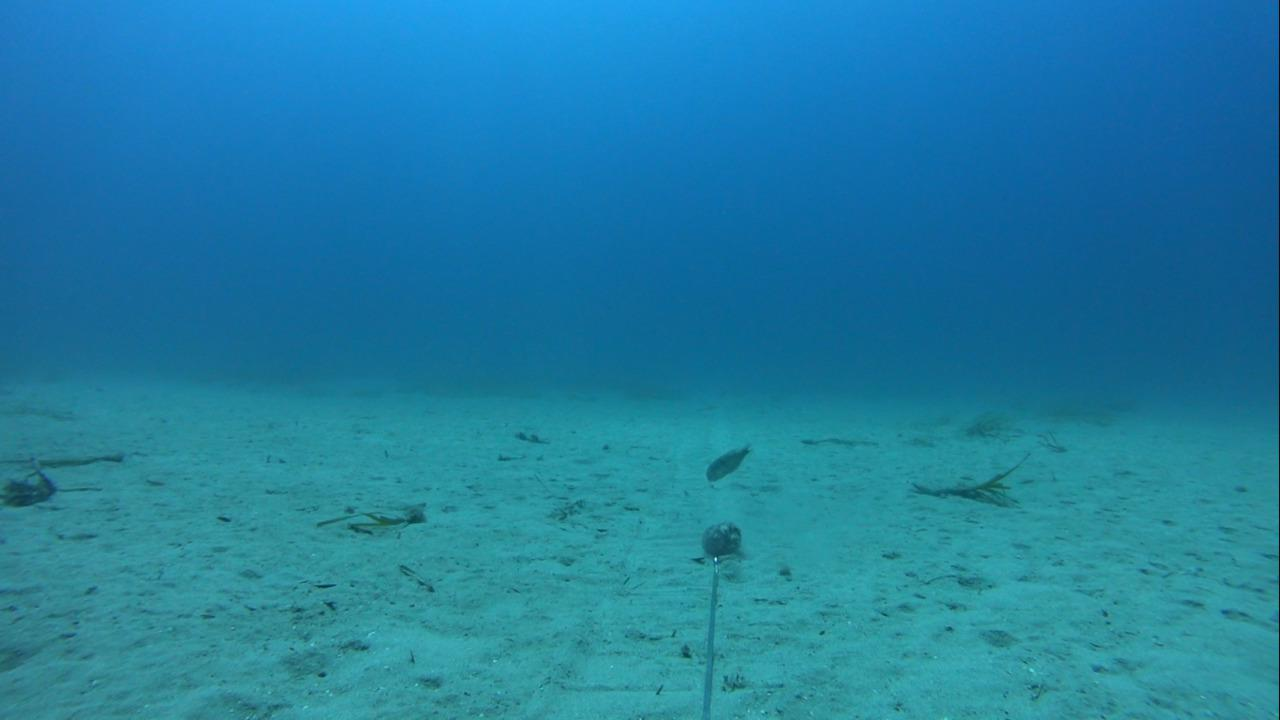raor: (703, 437, 749, 484)
